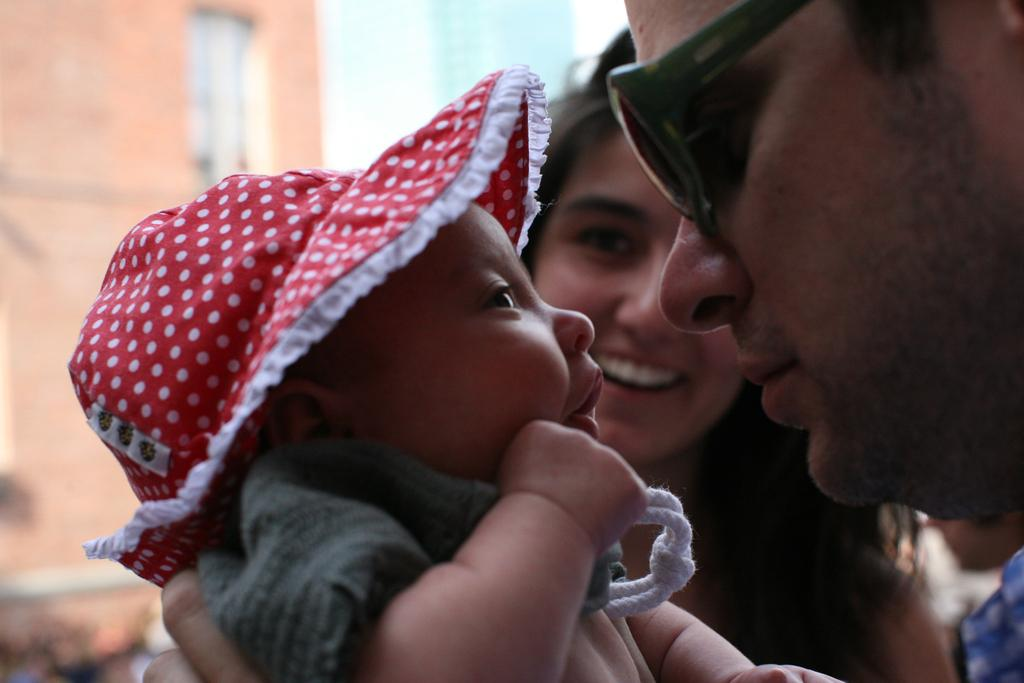Hat: (66, 60, 542, 592)
